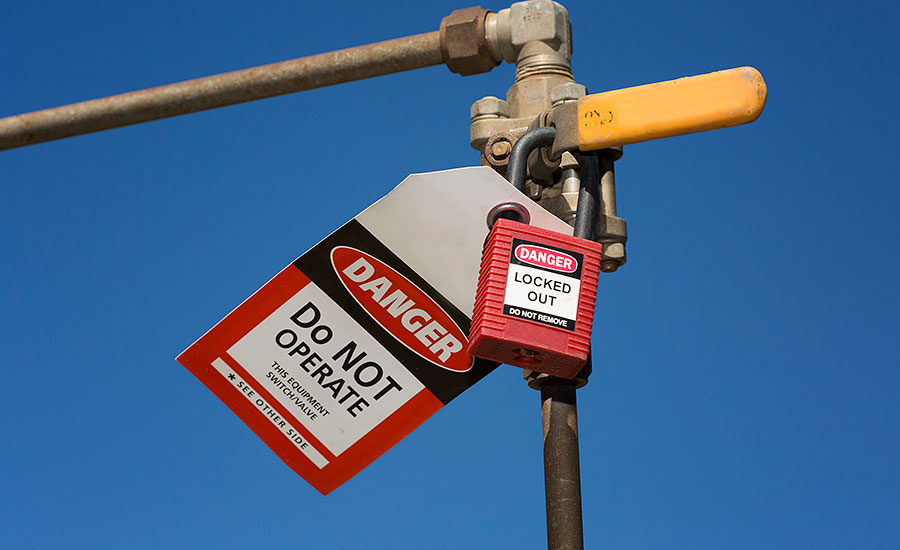lock: (461, 118, 611, 371)
tag: (176, 163, 584, 500)
